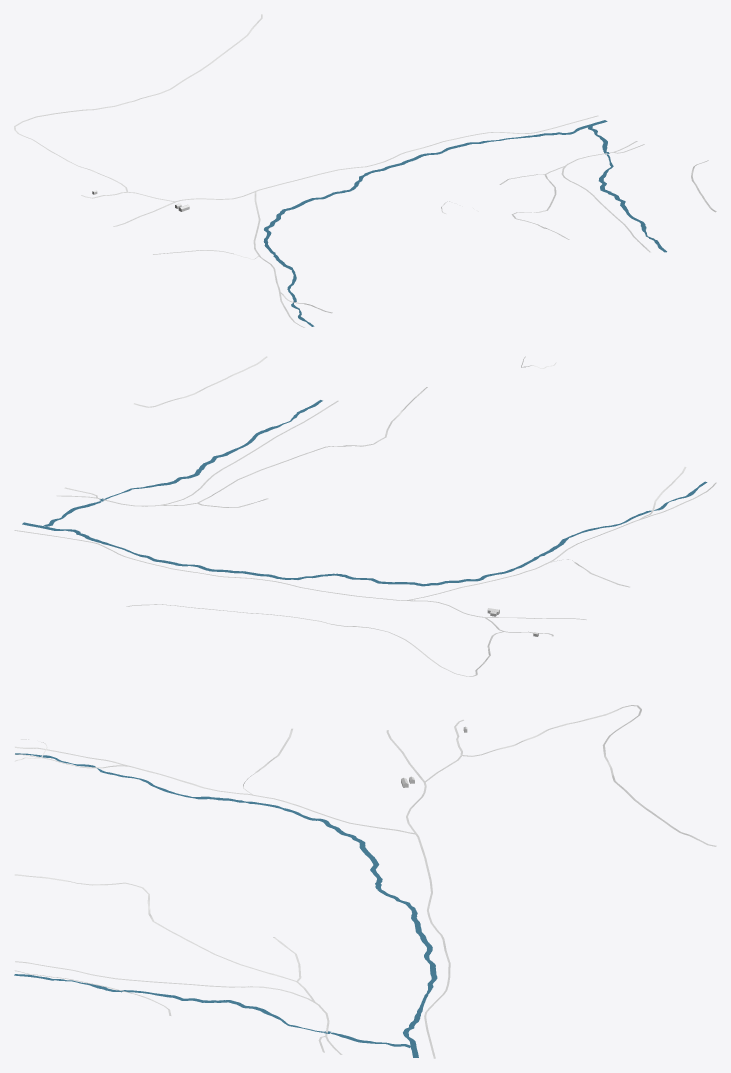
File: objekty.glb
3 renders of one model, top to bottom at view 1: azimuth 30°, elevation 25°; view 2: azimuth 150°, elevation 25°; view 3: azimuth 270°, elevation 25°, orthographic. The views are drawn at different scales.
Parts seen in each view (by area): view 1: Cesty_08_05, Voda_08_05; view 2: Cesty_08_05, Voda_08_05; view 3: Cesty_08_05, Voda_08_05.
Part boxes in pixels (x1,y1,x2,y2): Cesty_08_05: (14,14,716,327); Voda_08_05: (263,120,666,326); Cesty_08_05: (14,356,716,676); Voda_08_05: (22,400,707,586); Cesty_08_05: (14,705,716,1058); Voda_08_05: (14,753,437,1057).
Size of the model in its own units: 1004 by 207 by 1004.
